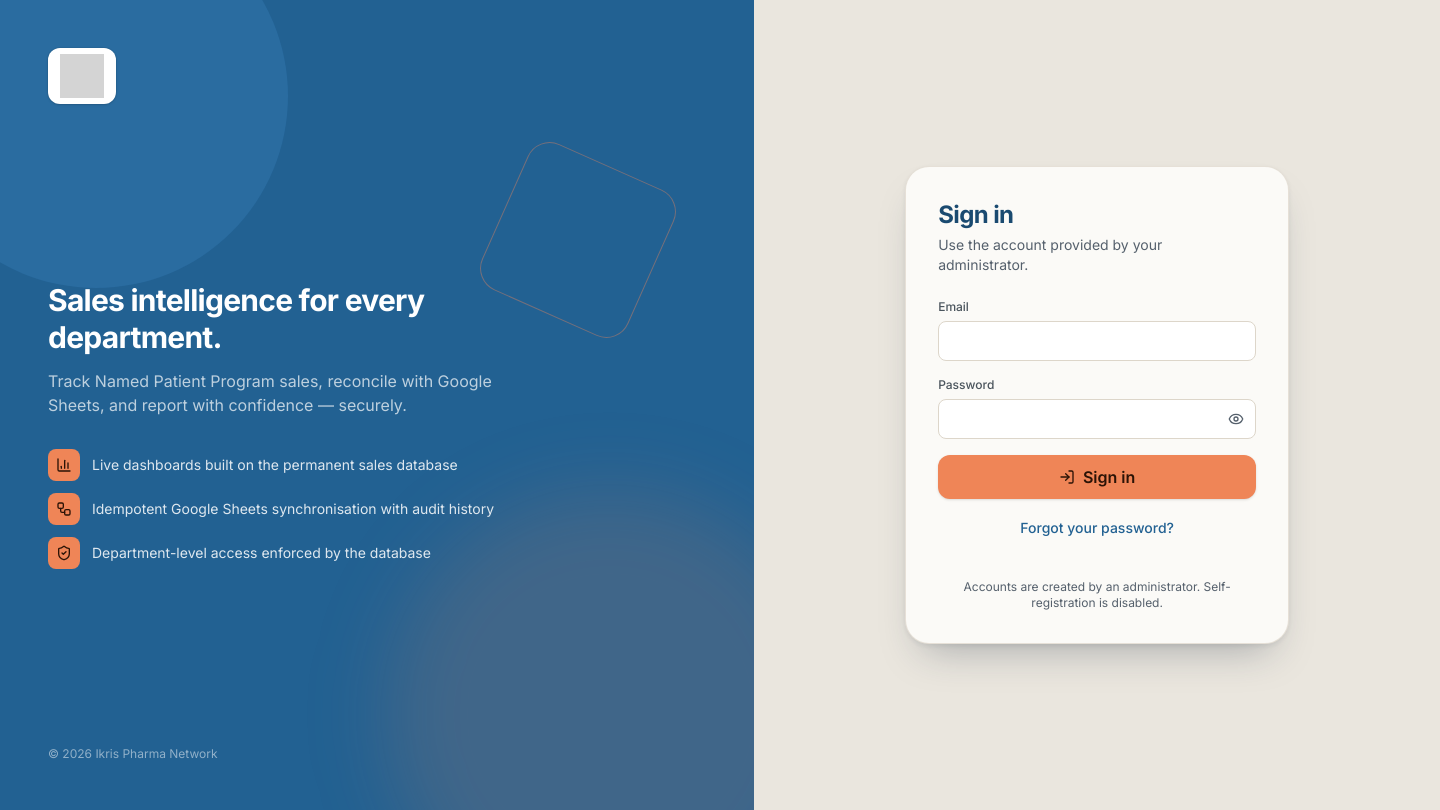
Test: LoginPage › shows a safe error when credentials are rejected
The width and height of the screenshot is (1440, 810).
Type "user@example.com" into the field labelled "Email" at (1097, 341), box 938,321 -> 1256,361
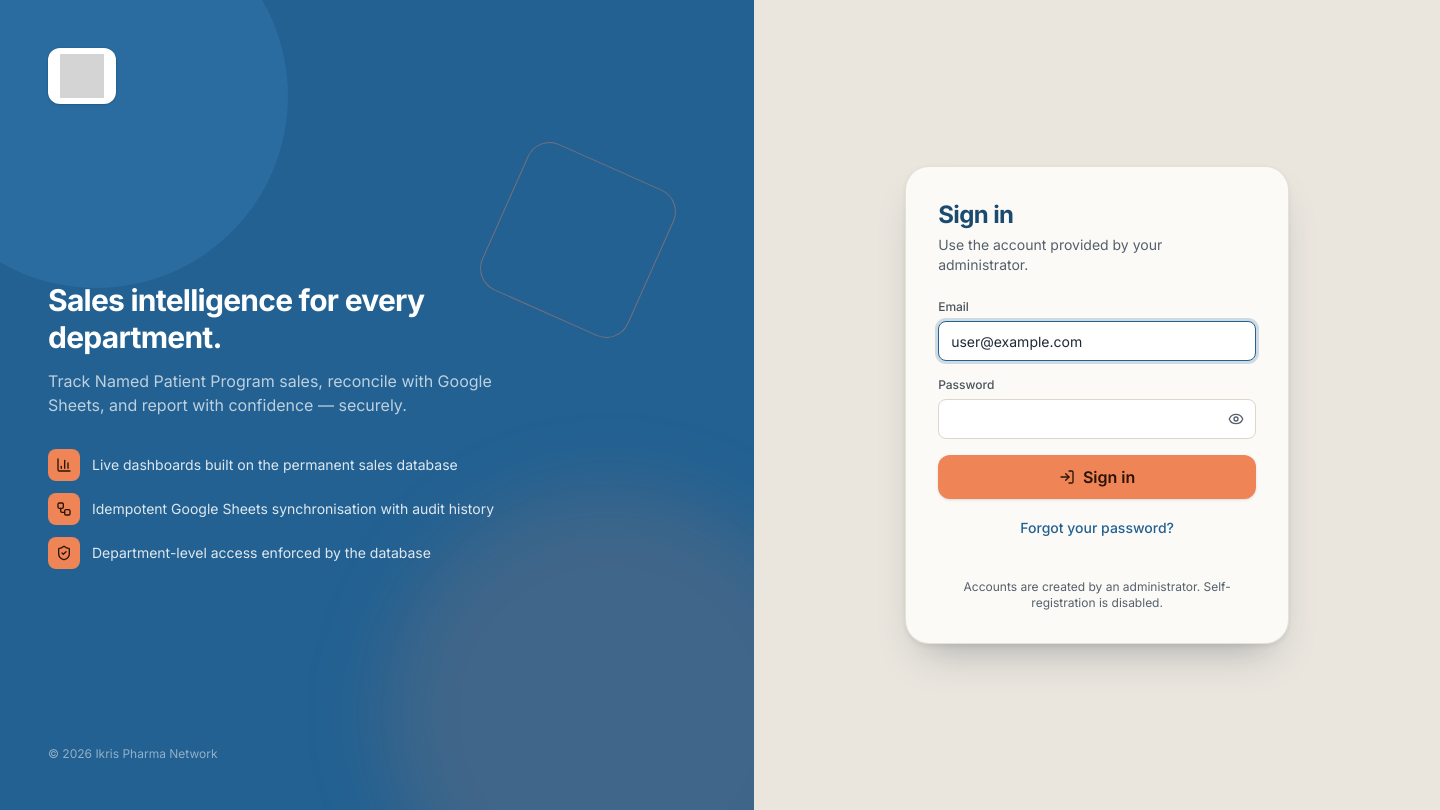
Type "wrong-password1" into the password field labelled "Password" at (1097, 419), box 938,399 -> 1256,439
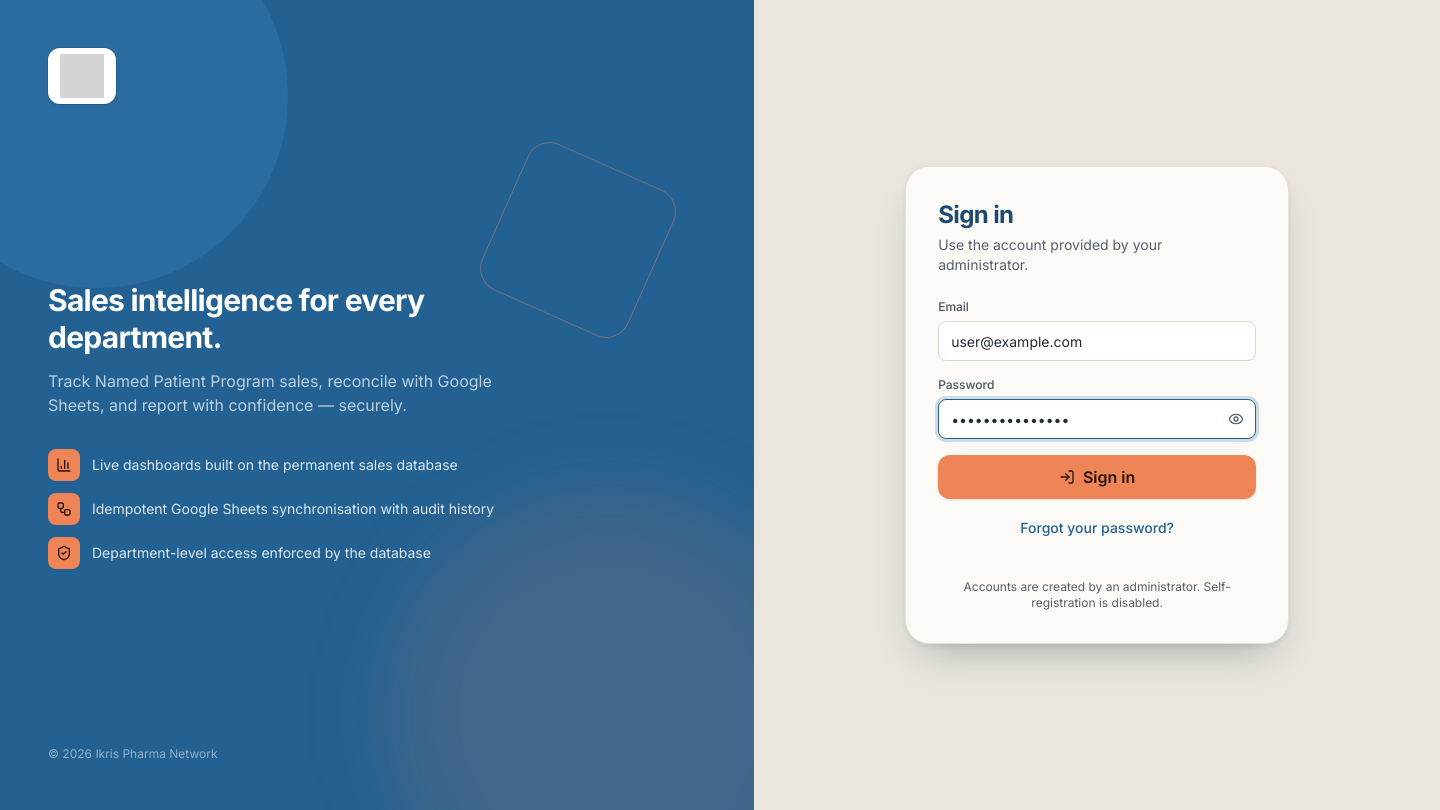
Click the button "Sign in" at (1097, 477), box 938,455 -> 1256,499
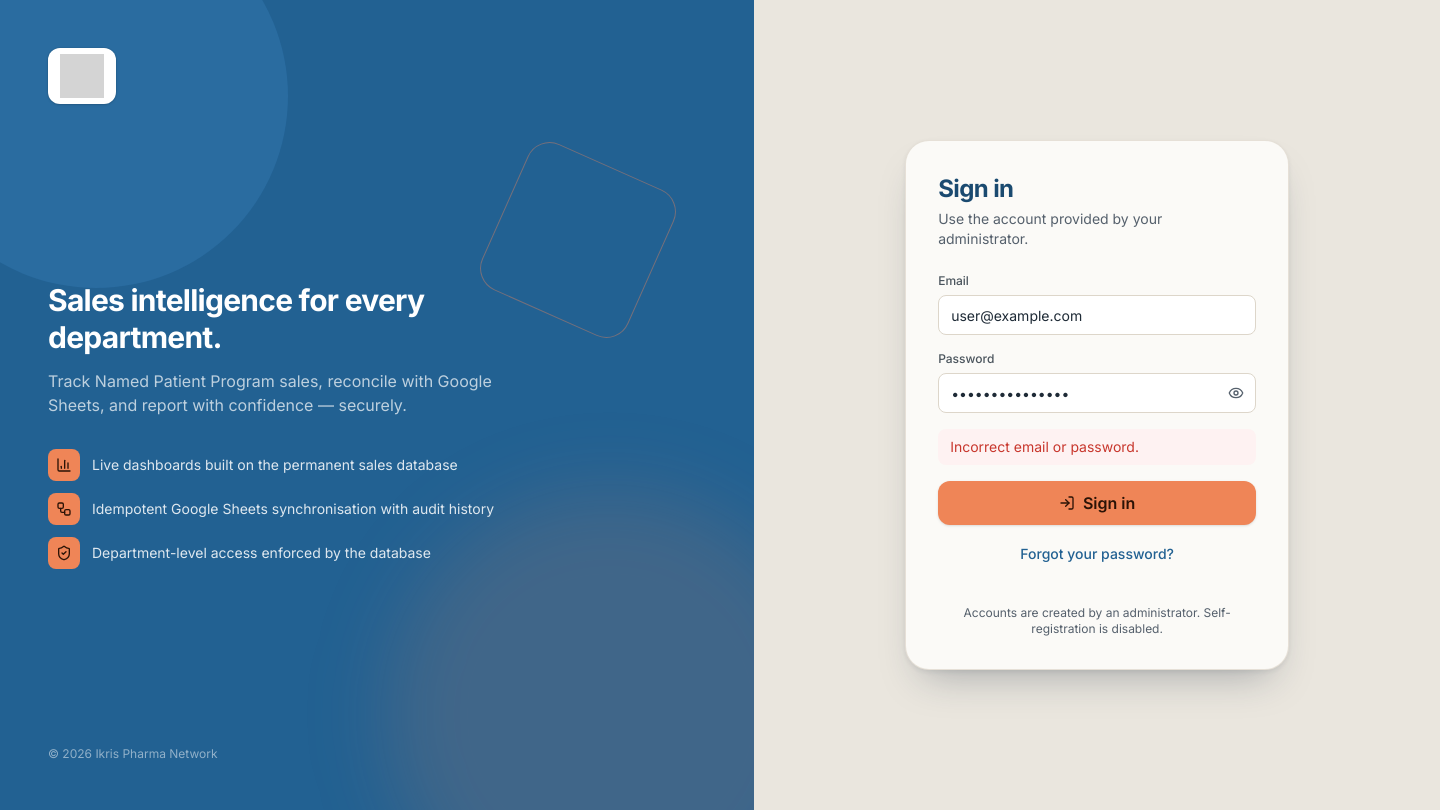
Check: the message reads "Incorrect email or password.", box 950,438 -> 1139,455
